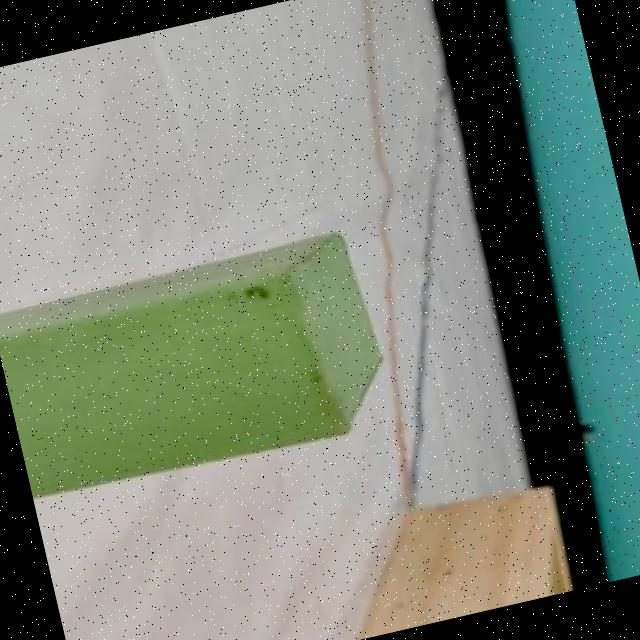greenbox: (0, 220, 403, 504)
